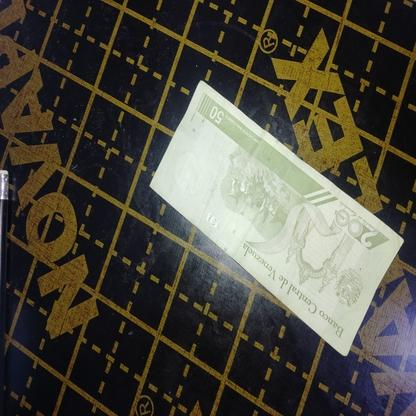fifty-back-vef: (148, 79, 404, 356)
